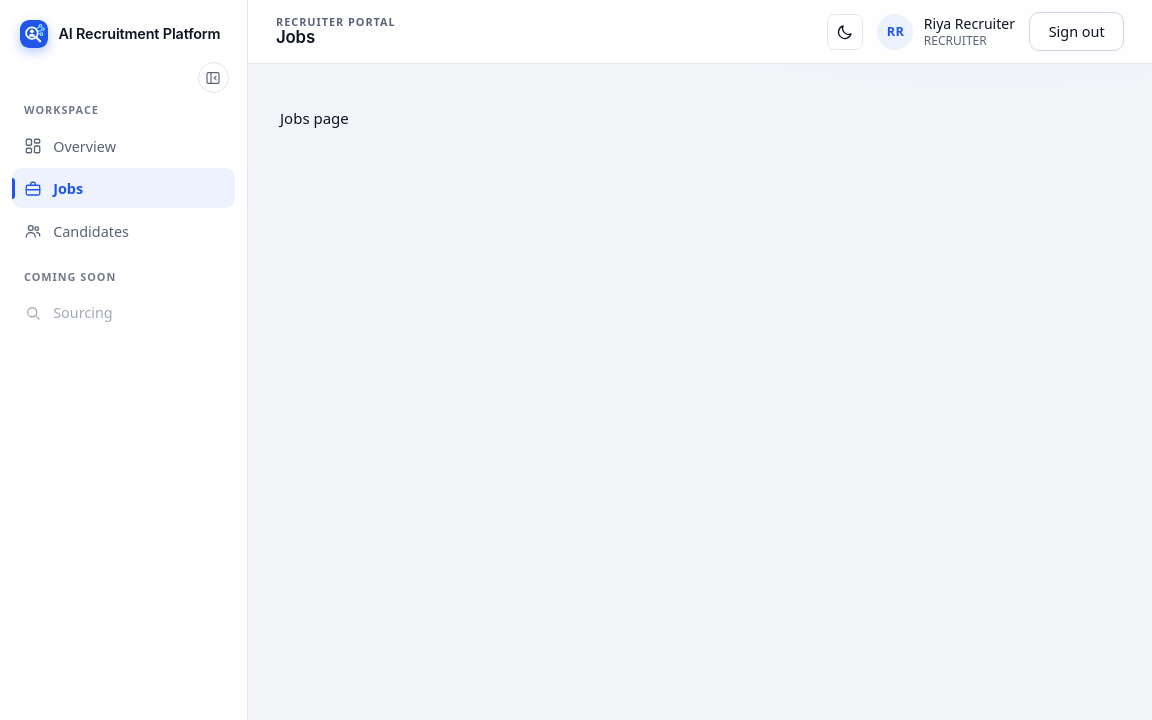
Test case: AppShell › shows a floating tooltip on hover only once collapsed, and hides it on mouse leave
Hover over the link "Jobs": (54, 189) [24, 179, 83, 198]
Click the button named "Collapse sidebar": (213, 78) [198, 62, 229, 93]
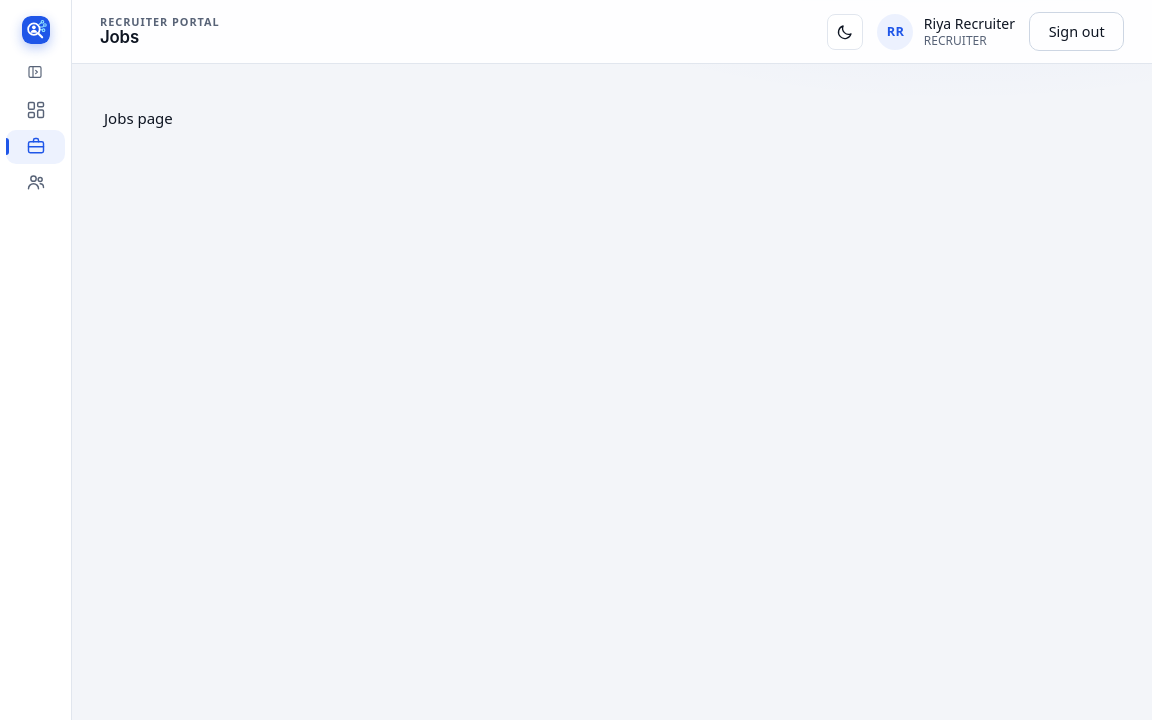
Hover over the 2nd link named "Jobs": (36, 146) [26, 136, 46, 156]
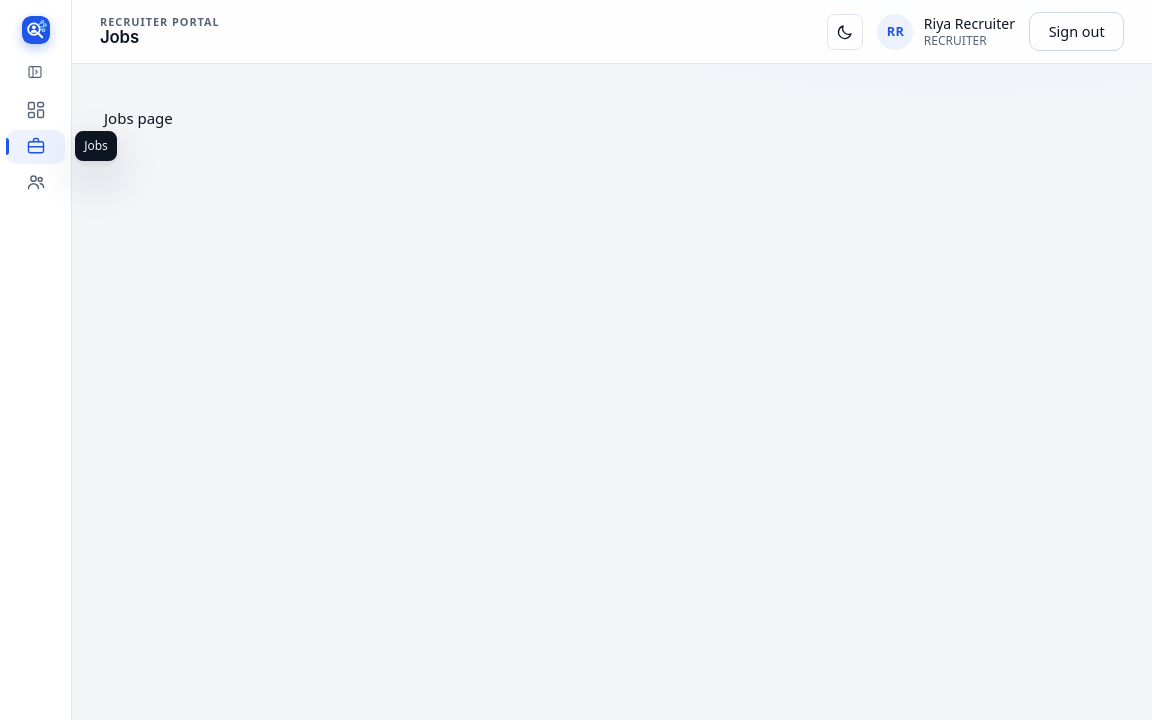
Result: the text with class "shell-tooltip" reads "Jobs" at [84, 137, 108, 154]
Move the pointer off the 2nd link named "Jobs", box [26, 136, 46, 156]
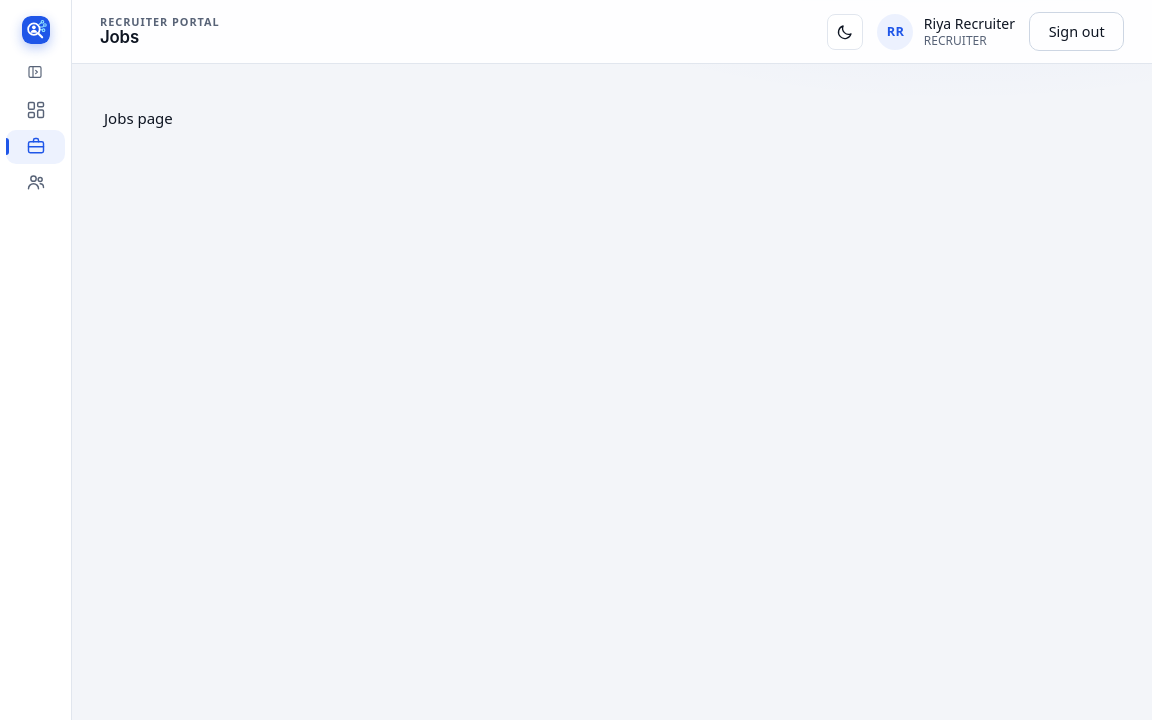
Result: the text with class "shell-tooltip" is gone
